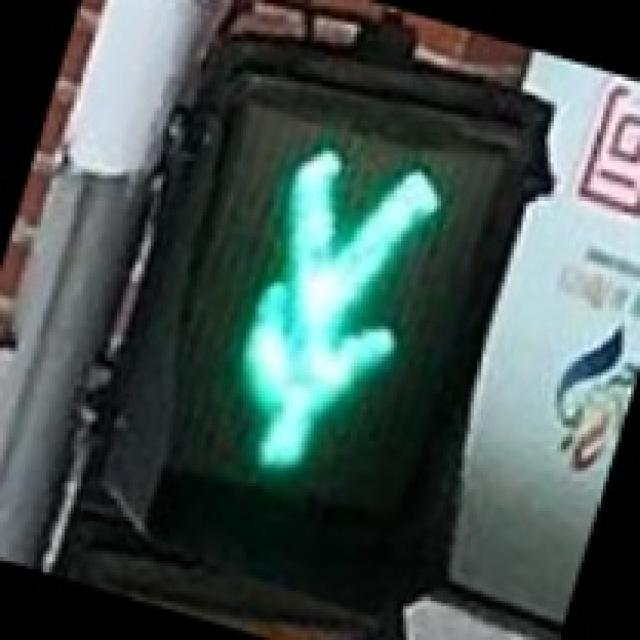geen-crossing: (126, 74, 502, 557)
